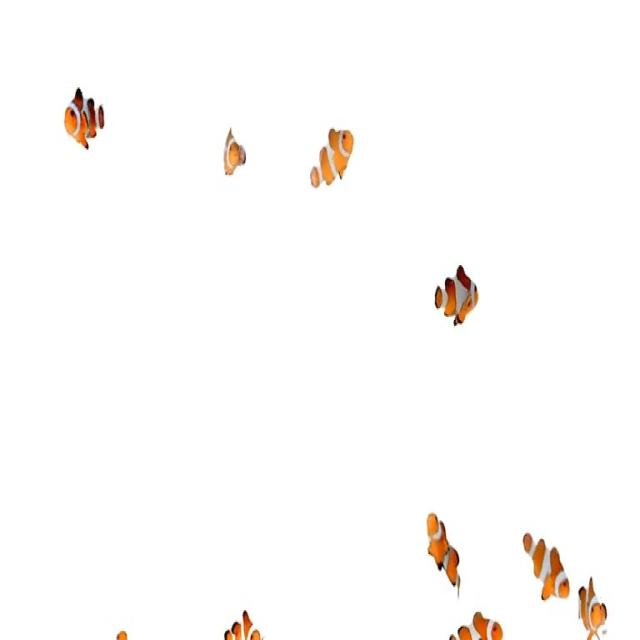fish: (422, 505, 462, 600), (521, 532, 570, 601), (434, 263, 482, 330), (310, 127, 355, 193), (63, 85, 107, 151), (578, 580, 610, 640), (221, 127, 250, 179), (448, 614, 503, 640), (224, 611, 264, 640)
